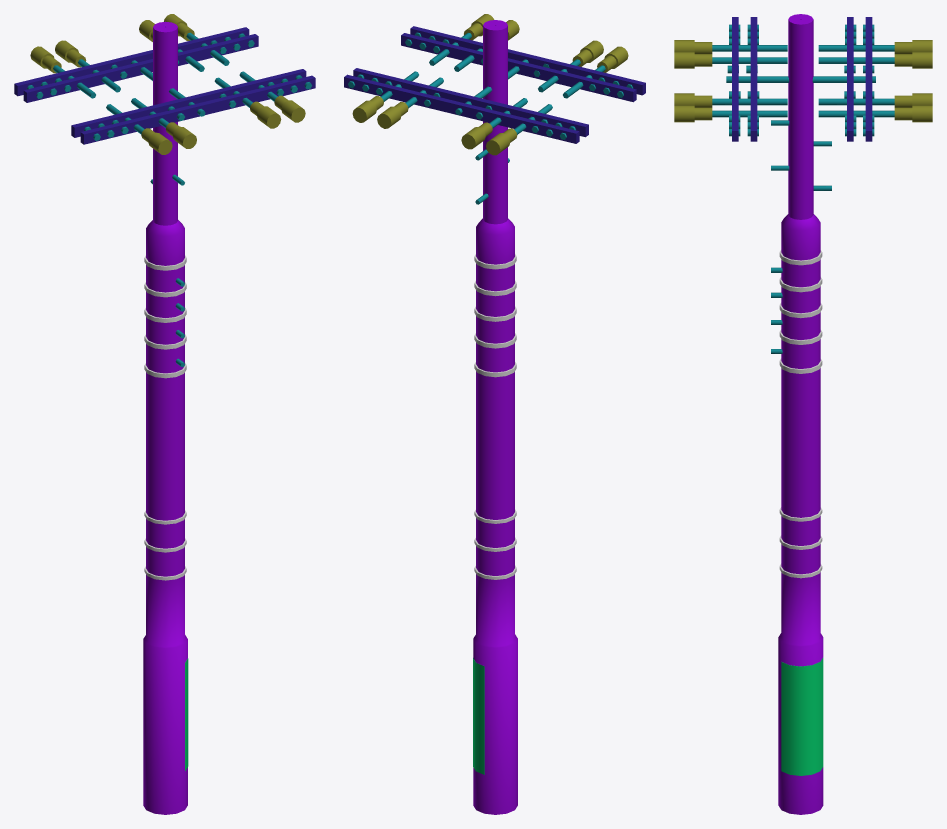
The model's file is TelephonePole.FBX.
3 views of the same model, side by side, from view 1: azimuth 30°, elevation 25°; view 2: azimuth 150°, elevation 25°; view 3: azimuth 270°, elevation 25° (orthographic).
Visible parts, largest first — view 1: Cylinder002; view 2: Cylinder002; view 3: Cylinder002.
Part boxes in pixels (x1,y1,x2,y2): Cylinder002: [14, 14, 315, 814]; Cylinder002: [344, 14, 645, 814]; Cylinder002: [674, 14, 932, 814].
Bounding box in the file's own units: 40.44 × 130 × 38.66.
